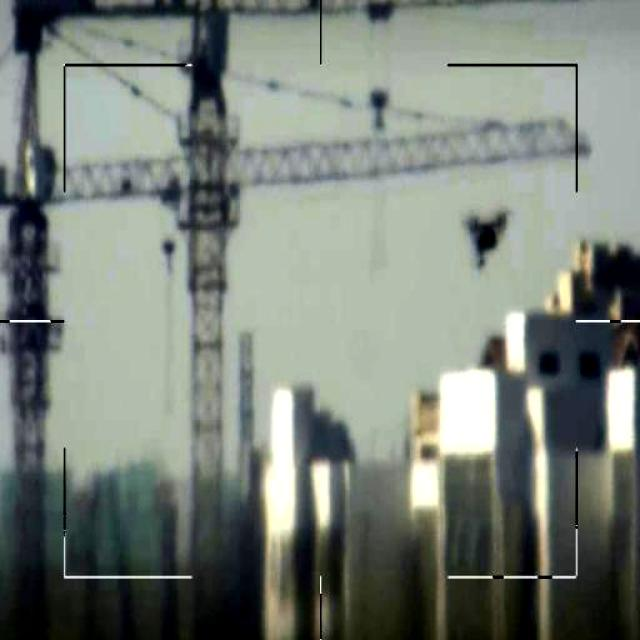bird: (462, 201, 510, 274)
